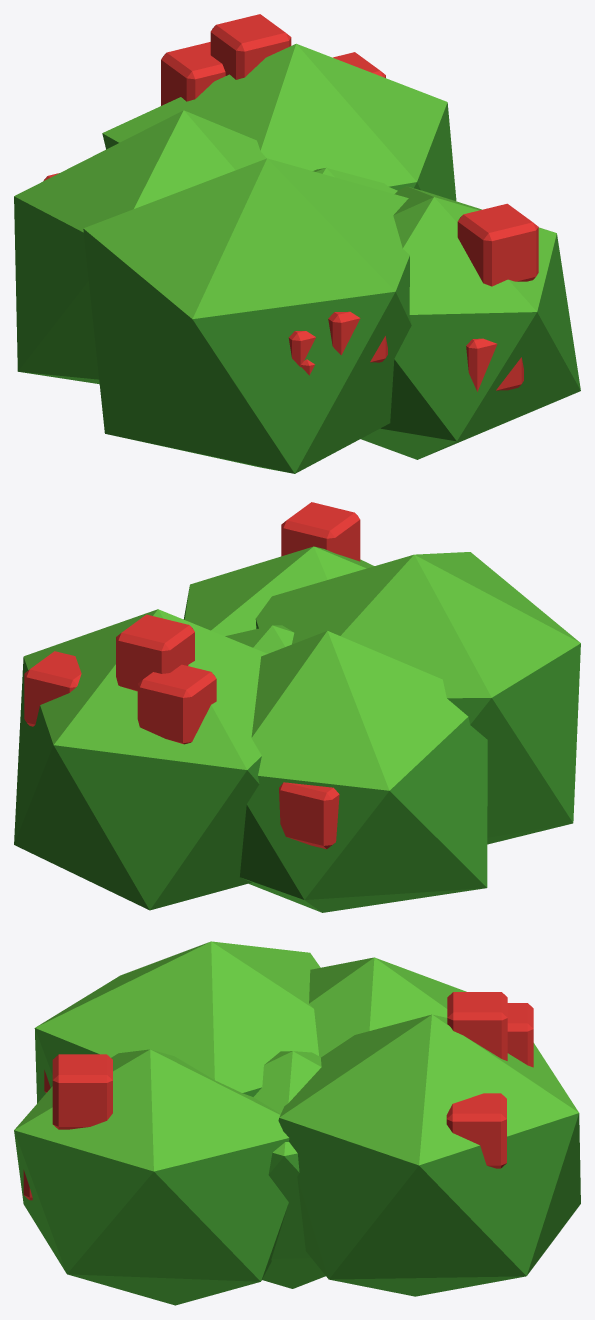
Rendered from RoseBush.fbx.
The picture shows the model from 3 angles, top to bottom: view 1: azimuth 30°, elevation 25°; view 2: azimuth 150°, elevation 25°; view 3: azimuth 270°, elevation 25°; orthographic projection. The views are drawn at different scales.
Parts seen in each view (by area): view 1: RoseBush; view 2: RoseBush; view 3: RoseBush.
Boxes of the visible parts, <box> form: RoseBush: <box>14,14,580,473</box>; RoseBush: <box>14,502,580,912</box>; RoseBush: <box>14,941,580,1305</box>.
Bounding box in the file's own units: 3.28 × 2.21 × 3.75.
Materials: 1 (1 with a texture image).
